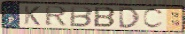B: (68, 5, 94, 28), (93, 6, 117, 28)
C: (142, 7, 166, 29)
D: (118, 7, 142, 29)
K: (23, 5, 41, 27)
R: (44, 5, 69, 27)
